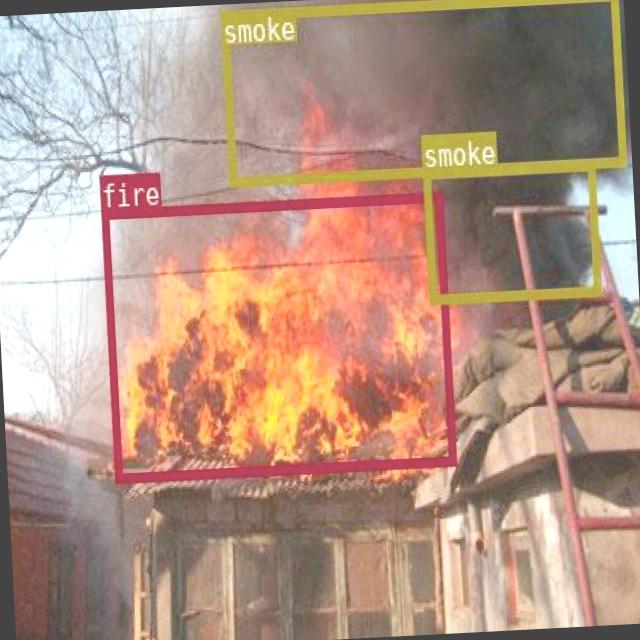fire: (100, 191, 454, 481)
smoke: (219, 0, 626, 185), (422, 160, 600, 302)
